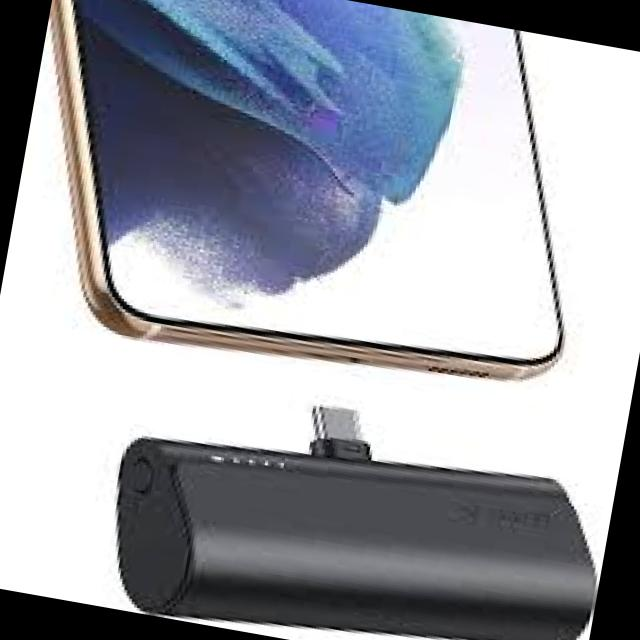portable-charger: (89, 359, 623, 640)
